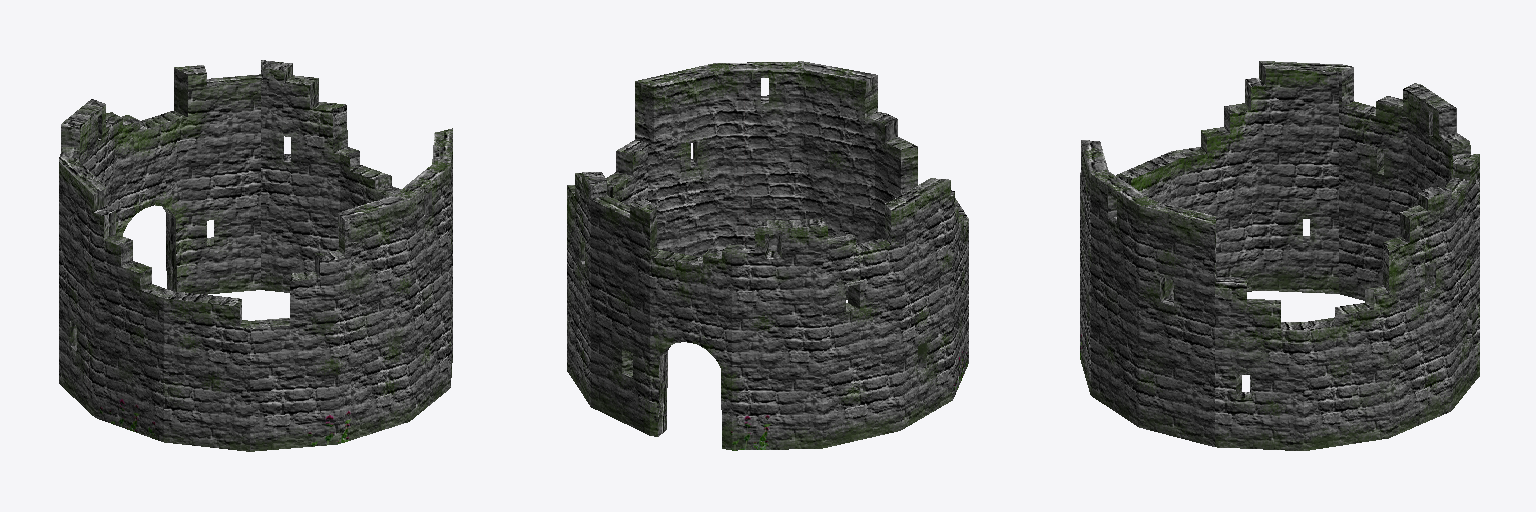
The picture shows the model from 3 angles: view 1: azimuth 30°, elevation 25°; view 2: azimuth 150°, elevation 25°; view 3: azimuth 270°, elevation 25°; orthographic projection.
Parts seen in each view (by area): view 1: Tube01; view 2: Tube01; view 3: Tube01.
Part boxes in pixels (x1,y1,x2,y2): Tube01: (59,60,452,451); Tube01: (567,61,968,450); Tube01: (1080,61,1479,450).
Size of the model in its own units: 32.4 by 19.85 by 32.46.
Materials: 1 (1 with a texture image).